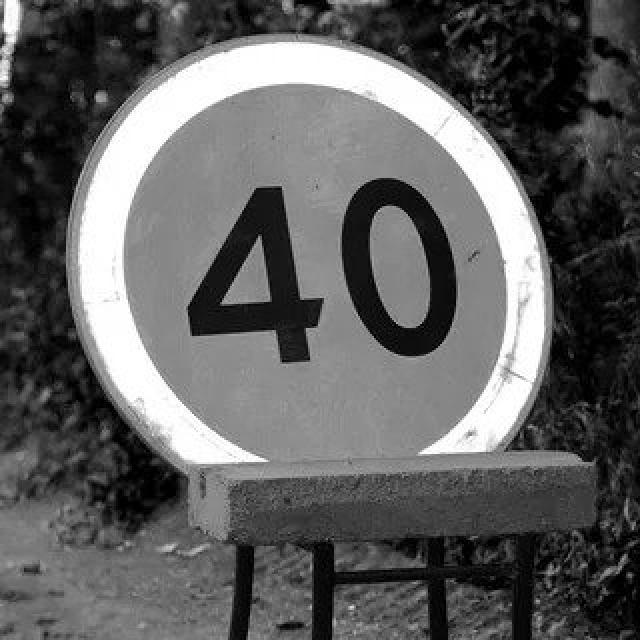speed limit 40: (66, 25, 558, 501)
